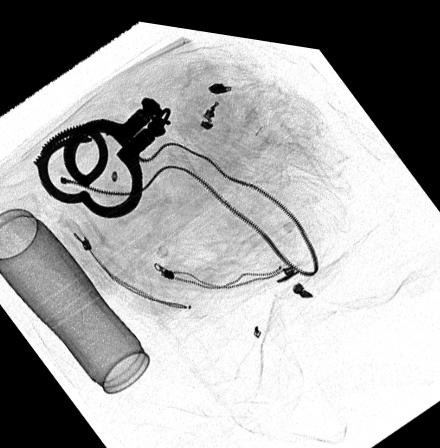HandCuffs: (31, 91, 176, 216)
